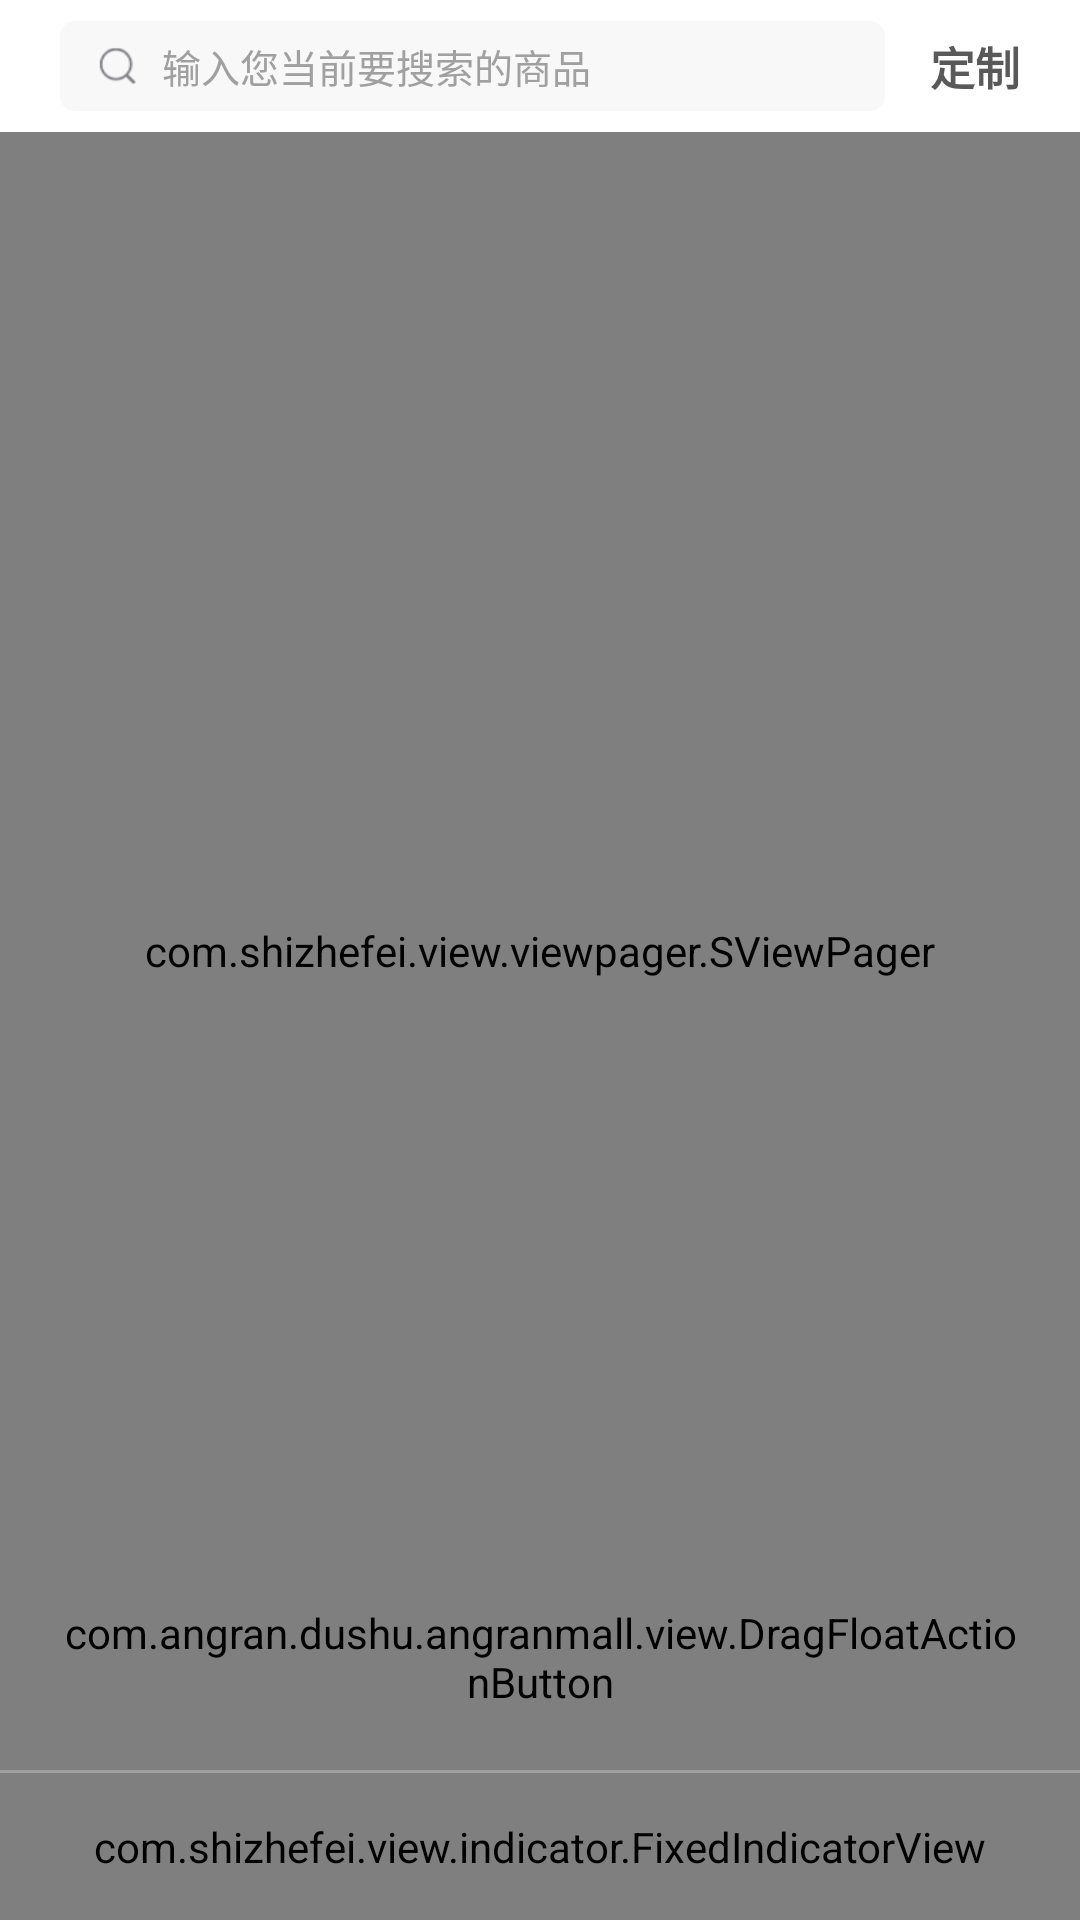

Screen size 1080w x 1920h. Icon name, then its center in pixels as (x=x, y=y):
search: (x=118, y=66)
